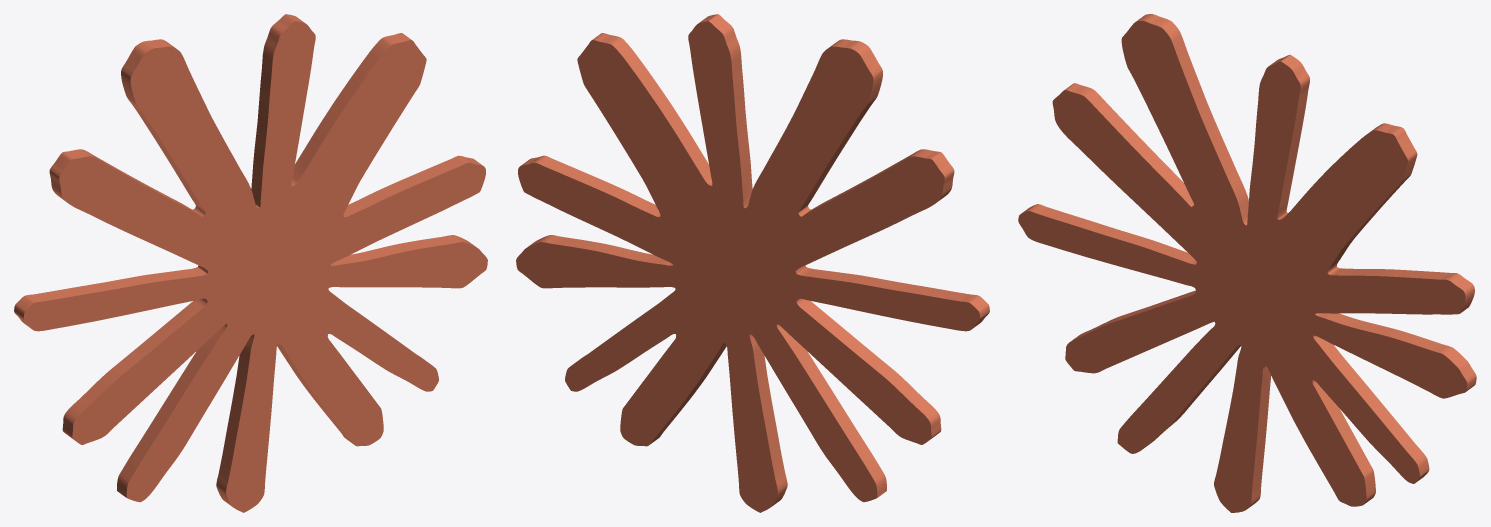
Rendered from claude.glb.
The picture shows the model from 3 angles, left to right: view 1: azimuth 30°, elevation 25°; view 2: azimuth 150°, elevation 25°; view 3: azimuth 330°, elevation 25°; orthographic projection. The views are drawn at different scales.
Visible parts, largest first — view 1: Curve.001_SVGMat.002_0; view 2: Curve.001_SVGMat.002_0; view 3: Curve.001_SVGMat.002_0.
Boxes of the visible parts, box(x1,y1,x2,y2) form: Curve.001_SVGMat.002_0: box(14, 14, 487, 512); Curve.001_SVGMat.002_0: box(516, 14, 989, 512); Curve.001_SVGMat.002_0: box(1018, 14, 1476, 512).
Bounding box in the file's own units: 0.3143 × 0.3149 × 0.0114.
